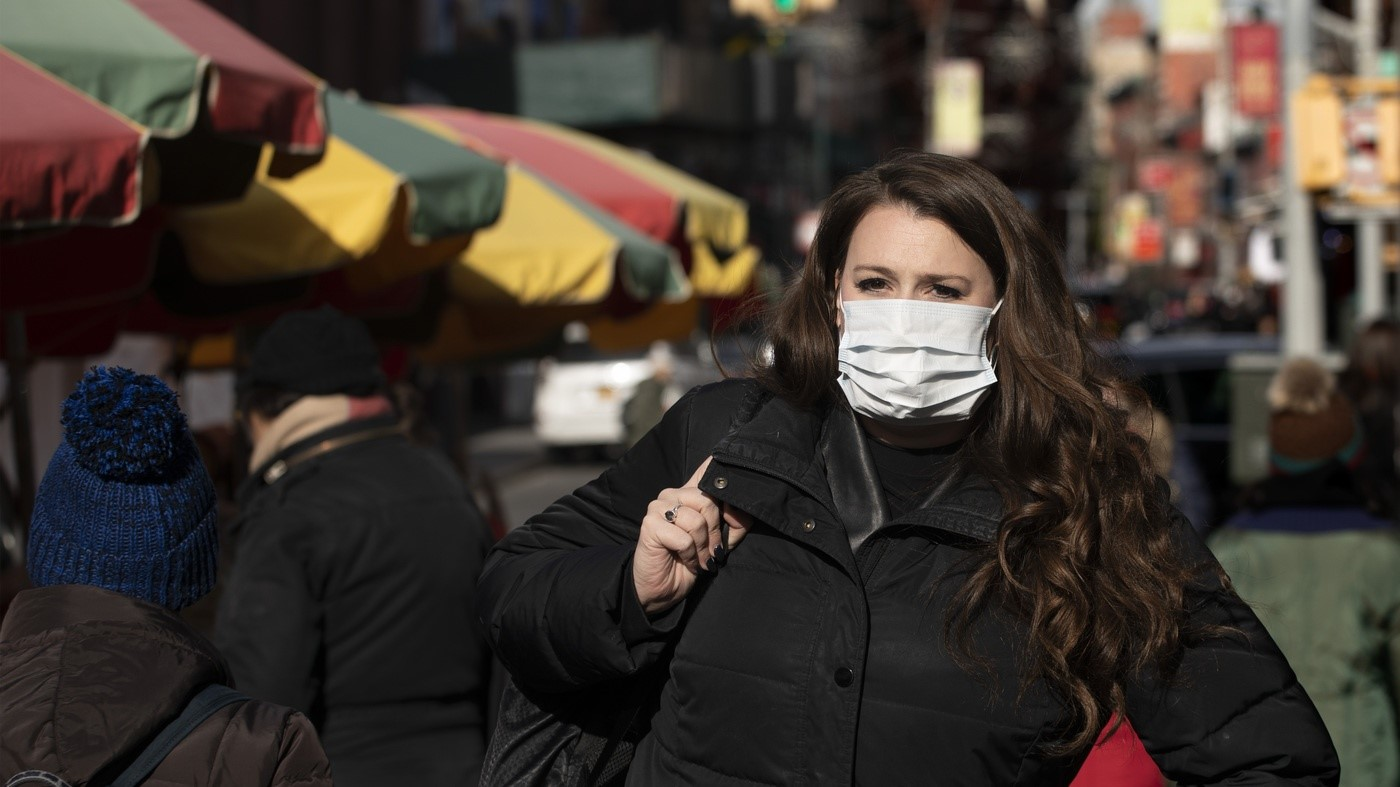face_with_mask: (815, 197, 1022, 453)
